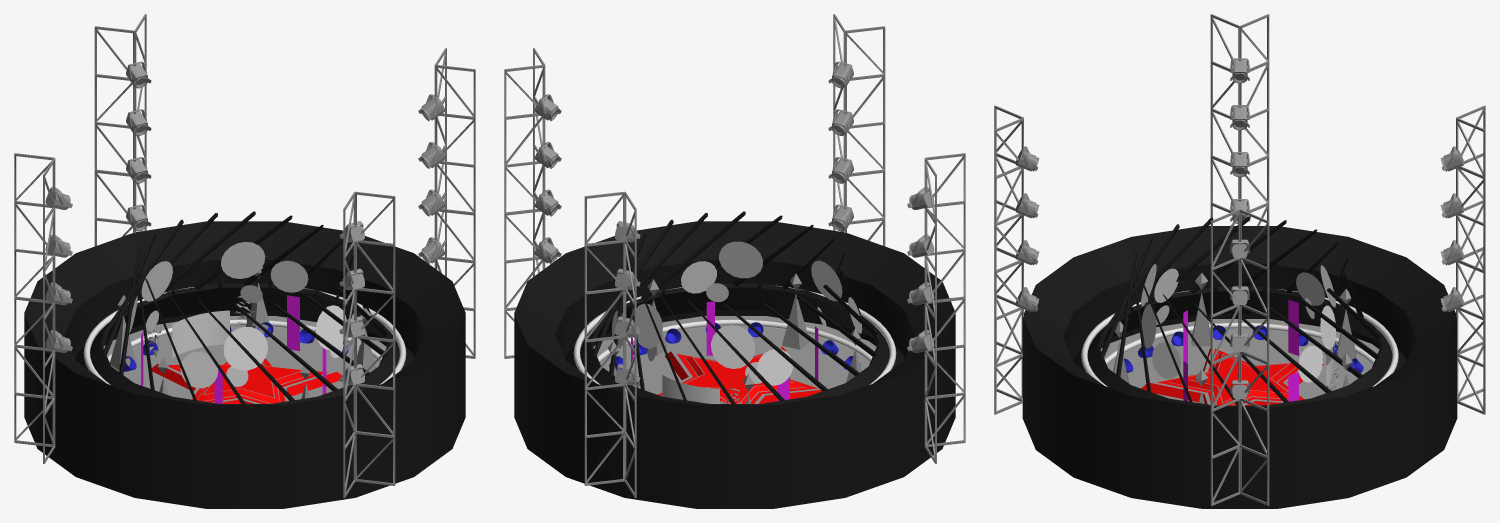
The model's file is stage.FBX.
3 renders of one model, left to right at view 1: azimuth 30°, elevation 25°; view 2: azimuth 150°, elevation 25°; view 3: azimuth 270°, elevation 25°, orthographic.
Visible parts, largest first — view 1: Cylinder024, Object001, Plane045, Cylinder001, Plane043, Cylinder032, Cylinder025, Plane044, Star001, Plane046, Plane037, Torus002 (+4 smaller); view 2: Cylinder024, Object001, Cylinder001, Plane046, Plane043, Cylinder025, Cylinder032, Plane044, Plane045, Star001, Torus001, Torus002 (+3 smaller); view 3: Cylinder024, Object001, Plane044, Cylinder001, Plane046, Plane045, Star001, Plane043, Cylinder032, Cylinder025, Torus002, Torus001 (+4 smaller).
Part boxes in pixels (<box>): Cylinder024: <box>24,221,465,508</box>; Object001: <box>102,211,387,404</box>; Plane045: <box>343,191,395,497</box>; Cylinder001: <box>103,316,386,399</box>; Plane043: <box>14,153,55,463</box>; Cylinder032: <box>180,305,359,388</box>; Cylinder025: <box>129,241,308,332</box>; Plane044: <box>434,48,475,358</box>; Star001: <box>151,358,342,403</box>; Plane046: <box>94,14,146,246</box>; Plane037: <box>172,310,229,357</box>; Torus002: <box>83,285,406,384</box>; Cylinder024: <box>514,221,955,508</box>; Object001: <box>592,211,877,404</box>; Cylinder001: <box>593,316,876,393</box>; Plane046: <box>584,191,636,497</box>; Plane043: <box>924,153,965,463</box>; Cylinder025: <box>612,303,792,385</box>; Cylinder032: <box>681,241,862,333</box>; Plane044: <box>504,48,545,358</box>; Plane045: <box>833,14,885,246</box>; Star001: <box>658,346,822,403</box>; Torus001: <box>597,319,872,362</box>; Torus002: <box>573,285,896,384</box>; Cylinder024: <box>1022,226,1457,508</box>; Object001: <box>1099,216,1380,406</box>; Plane044: <box>1210,209,1269,506</box>; Cylinder001: <box>1100,319,1379,402</box>; Plane046: <box>1456,105,1485,414</box>; Plane045: <box>994,105,1023,414</box>; Star001: <box>1141,348,1323,405</box>; Plane043: <box>1210,14,1269,225</box>; Cylinder032: <box>1141,264,1180,379</box>; Cylinder025: <box>1296,265,1335,382</box>; Torus002: <box>1081,289,1398,386</box>; Torus001: <box>1104,322,1375,364</box>.
Size of the model in its own units: 1004 by 706 by 1004.
